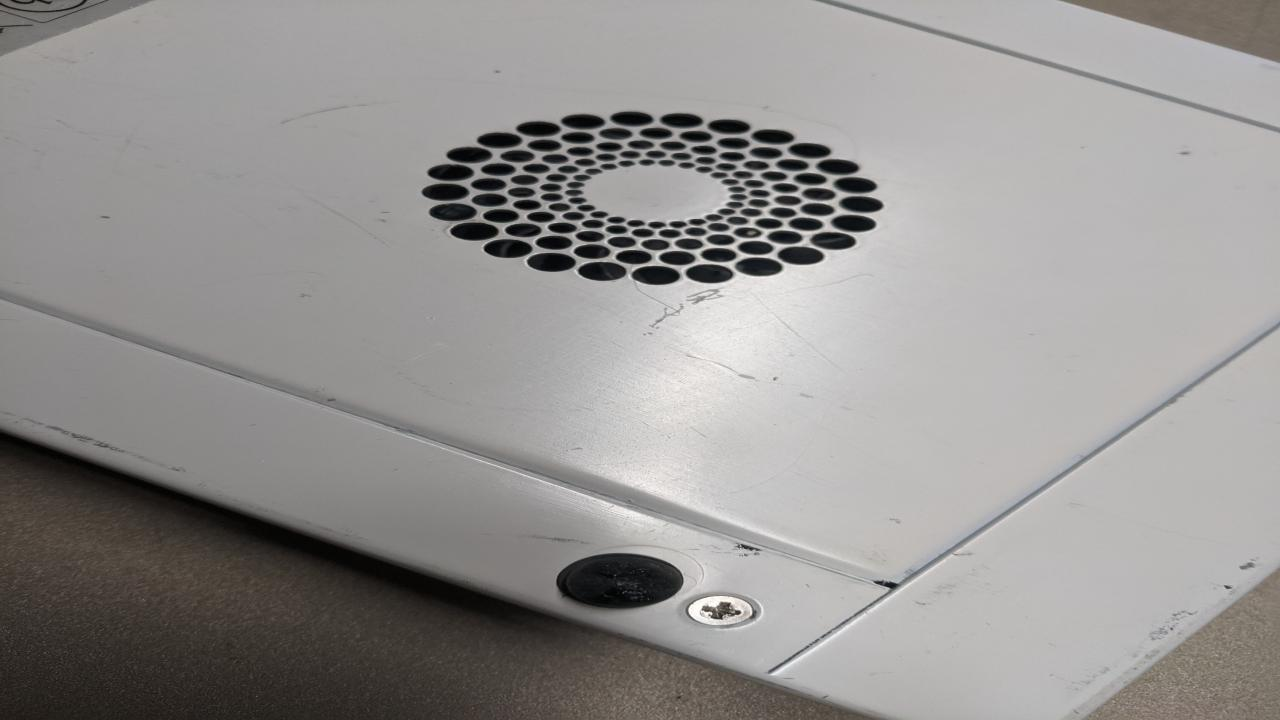CRS: (684, 595, 757, 629)
